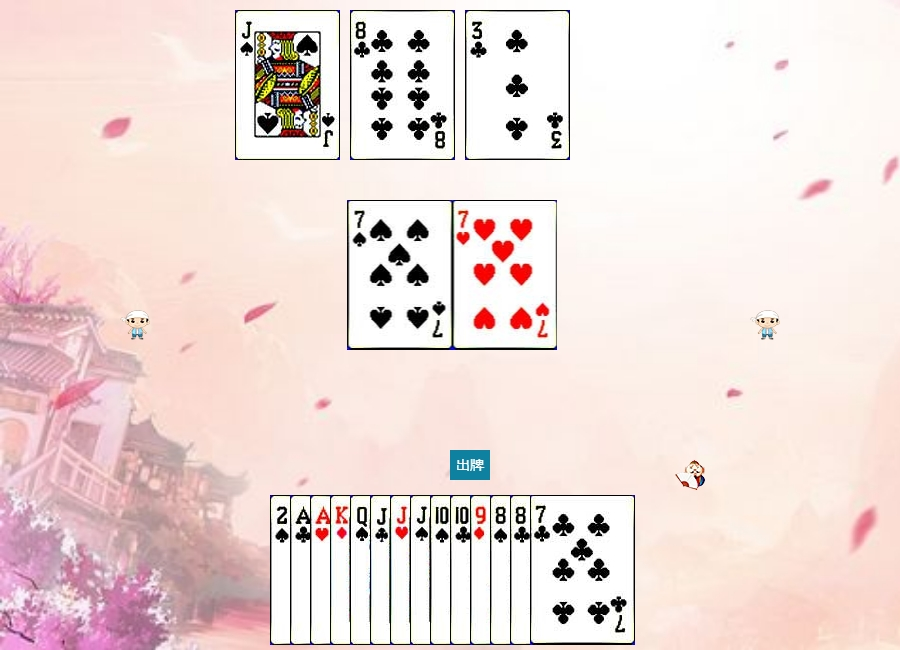10~2: (450, 495, 555, 645)
10~4: (430, 495, 535, 645)
11~2: (370, 495, 475, 645)
11~3: (390, 495, 495, 645)
11~4: (235, 10, 340, 160), (410, 495, 515, 645)
12~4: (350, 495, 455, 645)
13~1: (330, 495, 435, 645)
14~2: (290, 495, 395, 645)
14~3: (310, 495, 415, 645)
15~4: (270, 495, 375, 645)
3~2: (465, 10, 570, 160)
7~2: (530, 495, 635, 645)
7~3: (453, 200, 558, 350)
7~4: (348, 200, 453, 350)
8~2: (350, 10, 455, 160), (510, 495, 615, 645)
8~4: (490, 495, 595, 645)
9~1: (470, 495, 575, 645)
